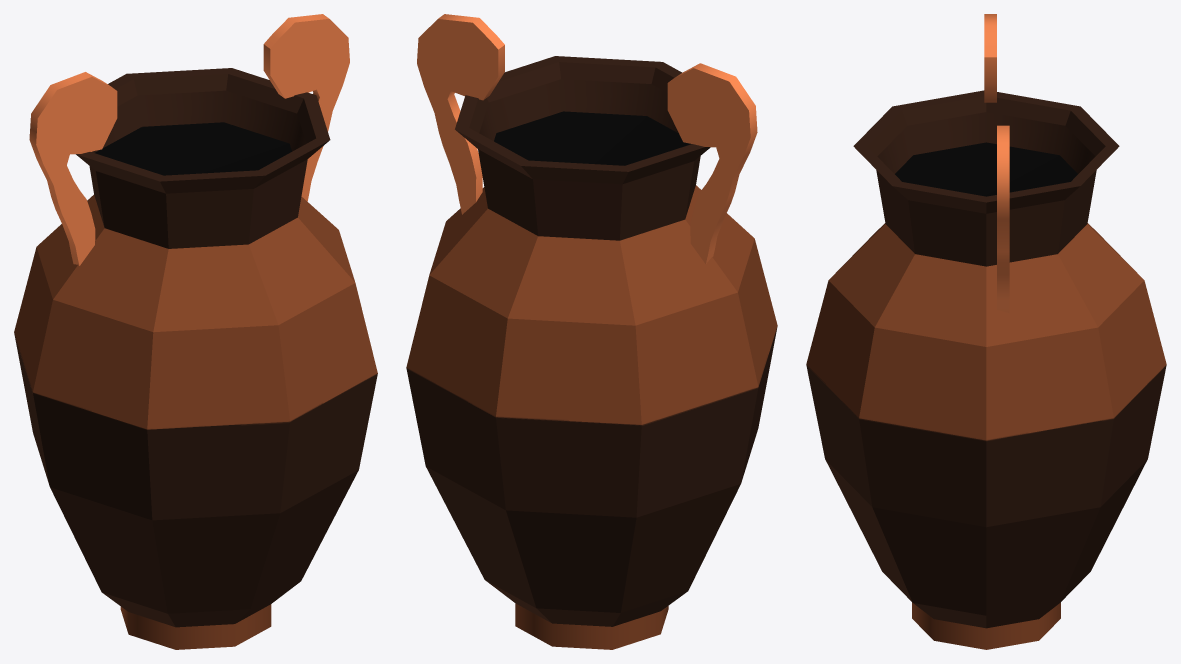
File: Pot 2.fbx
The picture shows the model from 3 angles, left to right: view 1: azimuth 30°, elevation 25°; view 2: azimuth 150°, elevation 25°; view 3: azimuth 270°, elevation 25°; orthographic projection. The views are drawn at different scales.
Parts seen in each view (by area): view 1: Cylinder003; view 2: Cylinder003; view 3: Cylinder003.
Part boxes in pixels (left/top/right/bottom): Cylinder003: left=14, top=14, right=377, bottom=649; Cylinder003: left=406, top=14, right=777, bottom=649; Cylinder003: left=806, top=14, right=1166, bottom=649.
Size of the model in its own units: 6.89 by 11.46 by 6.89.
Materials: 1 (1 with a texture image).
